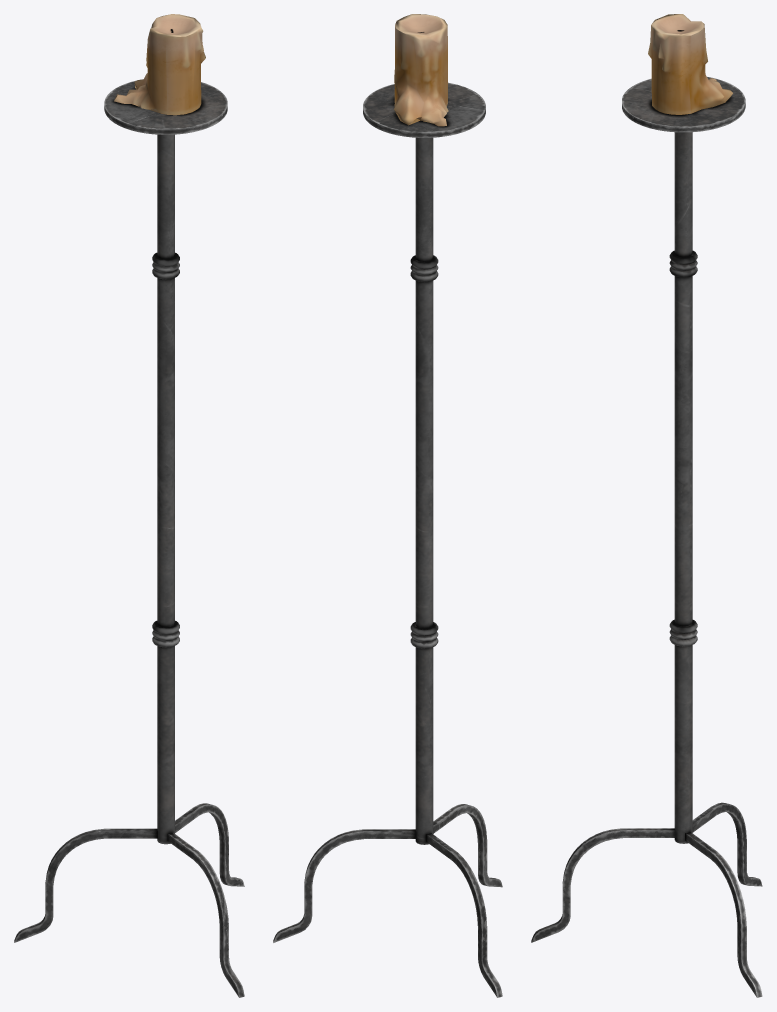
The model's file is SM_CandleStickA.fbx.
3 views of the same model, side by side, from view 1: azimuth 30°, elevation 25°; view 2: azimuth 150°, elevation 25°; view 3: azimuth 270°, elevation 25° (orthographic).
Parts seen in each view (by area): view 1: SM_CandleStickA_LOD0; view 2: SM_CandleStickA_LOD0; view 3: SM_CandleStickA_LOD0.
Part boxes in pixels (x1=…): SM_CandleStickA_LOD0: x1=14, y1=14, x2=244, y2=997; SM_CandleStickA_LOD0: x1=273, y1=14, x2=502, y2=997; SM_CandleStickA_LOD0: x1=531, y1=14, x2=762, y2=997.
Bounding box in the file's own units: 29.91 × 25.9 × 114.
Materials: 2 (2 with a texture image).
